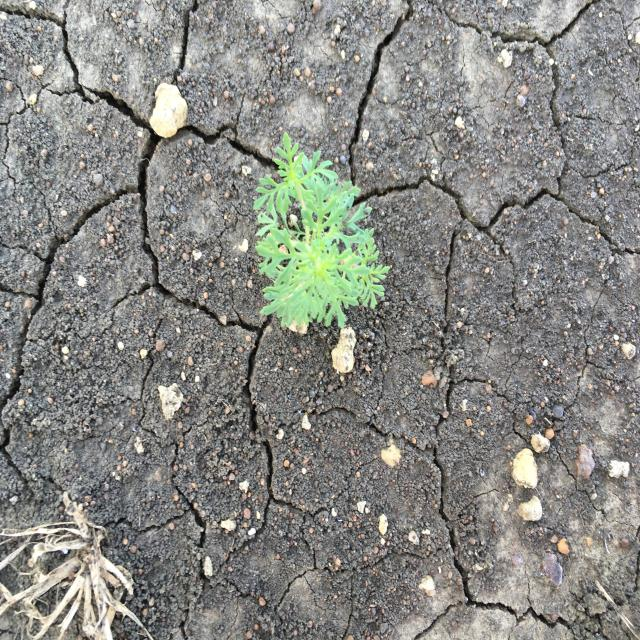Ragweed: (251, 129, 393, 334)
